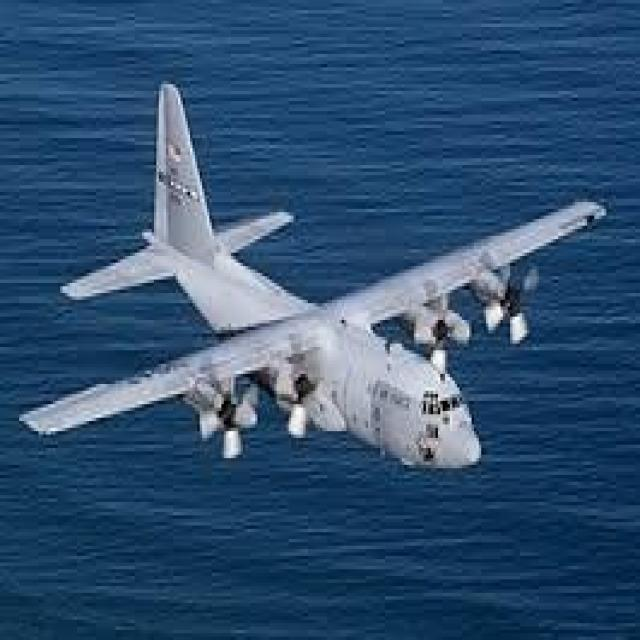C130: (11, 39, 629, 511)
